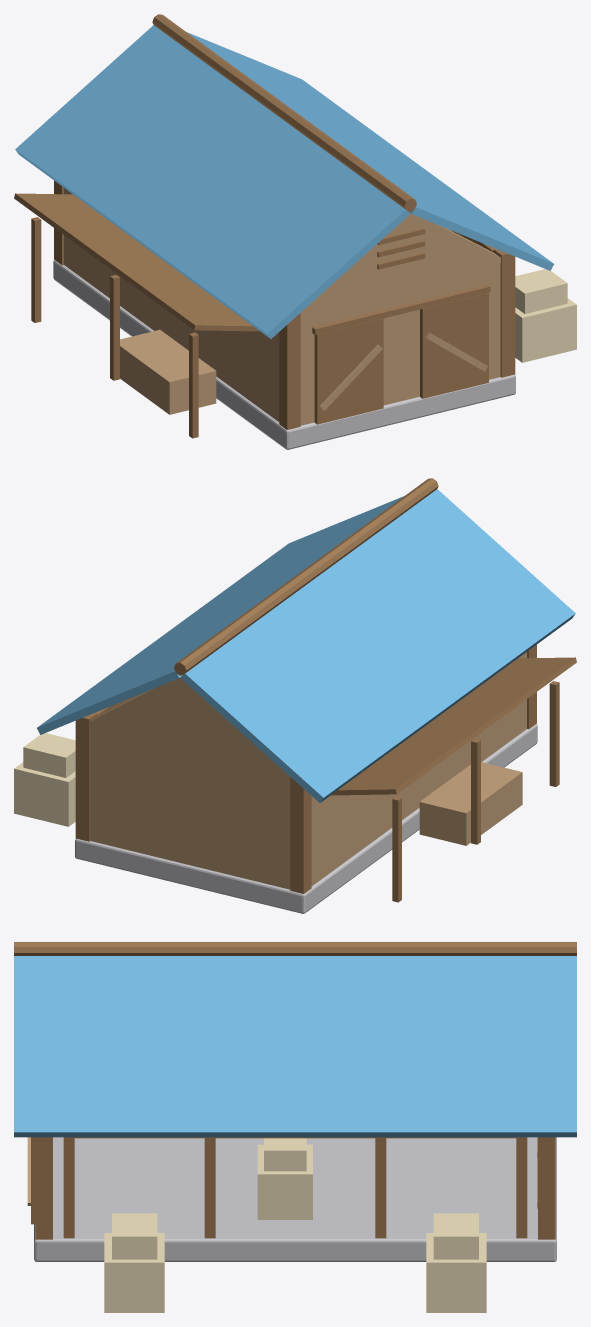
The model's file is ASTX_BUILDING_BARN.glb.
3 renders of one model, top to bottom at view 1: azimuth 30°, elevation 25°; view 2: azimuth 150°, elevation 25°; view 3: azimuth 270°, elevation 25°, orthographic. The views are drawn at different scales.
Visible parts, largest first — view 1: ASTX_BUILDING_BARN_roofW, ASTX_BUILDING_BARN_roofE, ASTX_BUILDING_BARN_wallS, ASTX_BUILDING_BARN_shedRoof, ASTX_BUILDING_BARN_wallW, ASTX_BUILDING_BARN_base, ASTX_BUILDING_BARN_gableS, ASTX_BUILDING_BARN_doorR, ASTX_BUILDING_BARN_doorL, ASTX_BUILDING_BARN_woodpile, ASTX_BUILDING_BARN_ridge, ASTX_BUILDING_BARN_stackY1 (+8 smaller); view 2: ASTX_BUILDING_BARN_roofW, ASTX_BUILDING_BARN_wallN, ASTX_BUILDING_BARN_roofE, ASTX_BUILDING_BARN_shedRoof, ASTX_BUILDING_BARN_base, ASTX_BUILDING_BARN_wallW, ASTX_BUILDING_BARN_gableN, ASTX_BUILDING_BARN_woodpile, ASTX_BUILDING_BARN_ridge, ASTX_BUILDING_BARN_stackY0, ASTX_BUILDING_BARN_corner-2.75-5.0, ASTX_BUILDING_BARN_corner2.75-5.0 (+4 smaller); view 3: ASTX_BUILDING_BARN_roofE, ASTX_BUILDING_BARN_base, ASTX_BUILDING_BARN_ridge, ASTX_BUILDING_BARN_stackY0, ASTX_BUILDING_BARN_stackY1, ASTX_BUILDING_BARN_stackIn, ASTX_BUILDING_BARN_stackYTop0, ASTX_BUILDING_BARN_stackYTop1, ASTX_BUILDING_BARN_corner2.75-5.0, ASTX_BUILDING_BARN_corner2.755.0, ASTX_BUILDING_BARN_stackInTop, ASTX_BUILDING_BARN_post-4.5 (+4 smaller).
Part boxes in pixels (x1,y1,x2,y2): ASTX_BUILDING_BARN_roofW: (15,25,409,338); ASTX_BUILDING_BARN_roofE: (187,32,553,270); ASTX_BUILDING_BARN_wallS: (300,263,500,425); ASTX_BUILDING_BARN_shedRoof: (14,193,259,331); ASTX_BUILDING_BARN_wallW: (64,188,279,421); ASTX_BUILDING_BARN_base: (53,260,515,449); ASTX_BUILDING_BARN_gableS: (302,212,500,311); ASTX_BUILDING_BARN_doorR: (420,293,488,398); ASTX_BUILDING_BARN_doorL: (314,318,383,424); ASTX_BUILDING_BARN_woodpile: (120,329,216,414); ASTX_BUILDING_BARN_ridge: (152,14,416,211); ASTX_BUILDING_BARN_stackY1: (515,298,576,362); ASTX_BUILDING_BARN_roofW: (181,489,575,802); ASTX_BUILDING_BARN_wallN: (90,727,290,889); ASTX_BUILDING_BARN_roofE: (37,496,403,734); ASTX_BUILDING_BARN_shedRoof: (331,657,576,795); ASTX_BUILDING_BARN_base: (75,724,537,913); ASTX_BUILDING_BARN_wallW: (311,652,526,885); ASTX_BUILDING_BARN_gableN: (90,676,288,775); ASTX_BUILDING_BARN_woodpile: (419,762,522,845); ASTX_BUILDING_BARN_ridge: (174,478,438,675); ASTX_BUILDING_BARN_stackY0: (14,762,75,826); ASTX_BUILDING_BARN_corner-2.75-5.0: (290,777,311,893); ASTX_BUILDING_BARN_corner2.75-5.0: (75,713,97,841); ASTX_BUILDING_BARN_roofE: (14,956,576,1137); ASTX_BUILDING_BARN_base: (34,1137,556,1261); ASTX_BUILDING_BARN_ridge: (14,942,576,955); ASTX_BUILDING_BARN_stackY0: (426,1233,486,1312); ASTX_BUILDING_BARN_stackY1: (104,1233,164,1312); ASTX_BUILDING_BARN_stackIn: (257,1144,312,1219); ASTX_BUILDING_BARN_stackYTop0: (433,1213,478,1259); ASTX_BUILDING_BARN_stackYTop1: (112,1213,157,1259); ASTX_BUILDING_BARN_corner2.75-5.0: (538,1137,555,1239); ASTX_BUILDING_BARN_corner2.755.0: (35,1137,52,1239); ASTX_BUILDING_BARN_stackInTop: (264,1138,306,1171); ASTX_BUILDING_BARN_post-4.5: (516,1137,527,1238).
Bounding box in the file's own units: 9.93 × 5.66 × 11.2.
